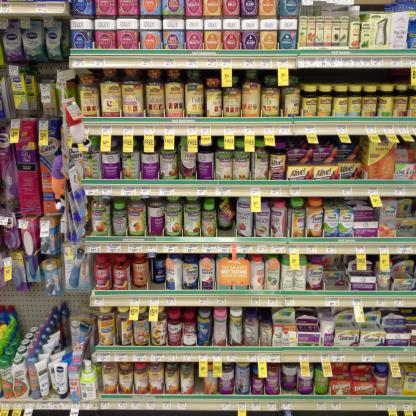Void: (304, 70, 408, 82), (18, 296, 47, 320), (220, 227, 235, 235), (194, 379, 201, 392)
